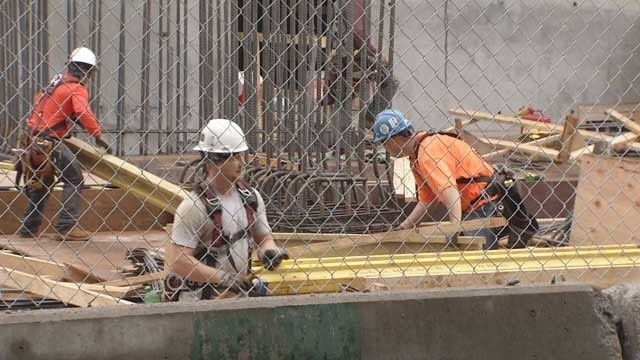blue: (371, 106, 417, 160)
white: (198, 118, 248, 182), (65, 45, 98, 80)
